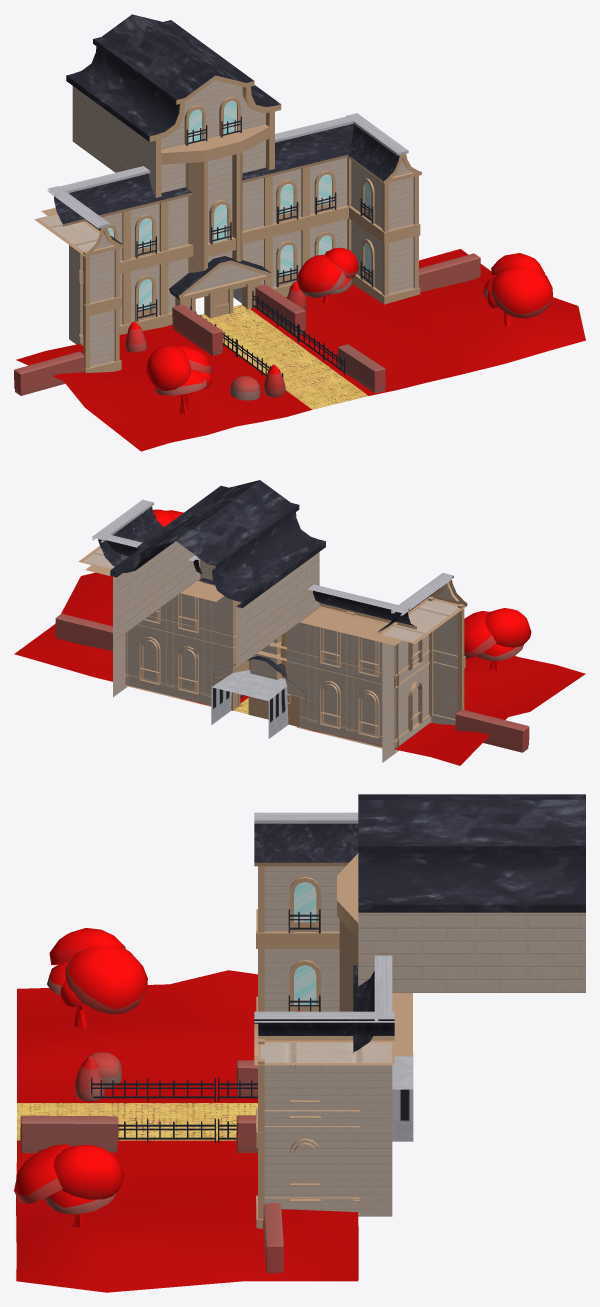
File: AdrienMansion_park2Adrien.fbx
The picture shows the model from 3 angles, top to bottom: view 1: azimuth 30°, elevation 25°; view 2: azimuth 150°, elevation 25°; view 3: azimuth 270°, elevation 25°; orthographic projection. The views are drawn at different scales.
Parts seen in each view (by area): view 1: AdrienMansion; view 2: AdrienMansion; view 3: AdrienMansion.
Part boxes in pixels (<box>): AdrienMansion: <box>14,14,585,451</box>; AdrienMansion: <box>14,480,585,765</box>; AdrienMansion: <box>14,794,585,1292</box>.
Bounding box in the file's own units: 34745 × 15864 × 25075.
